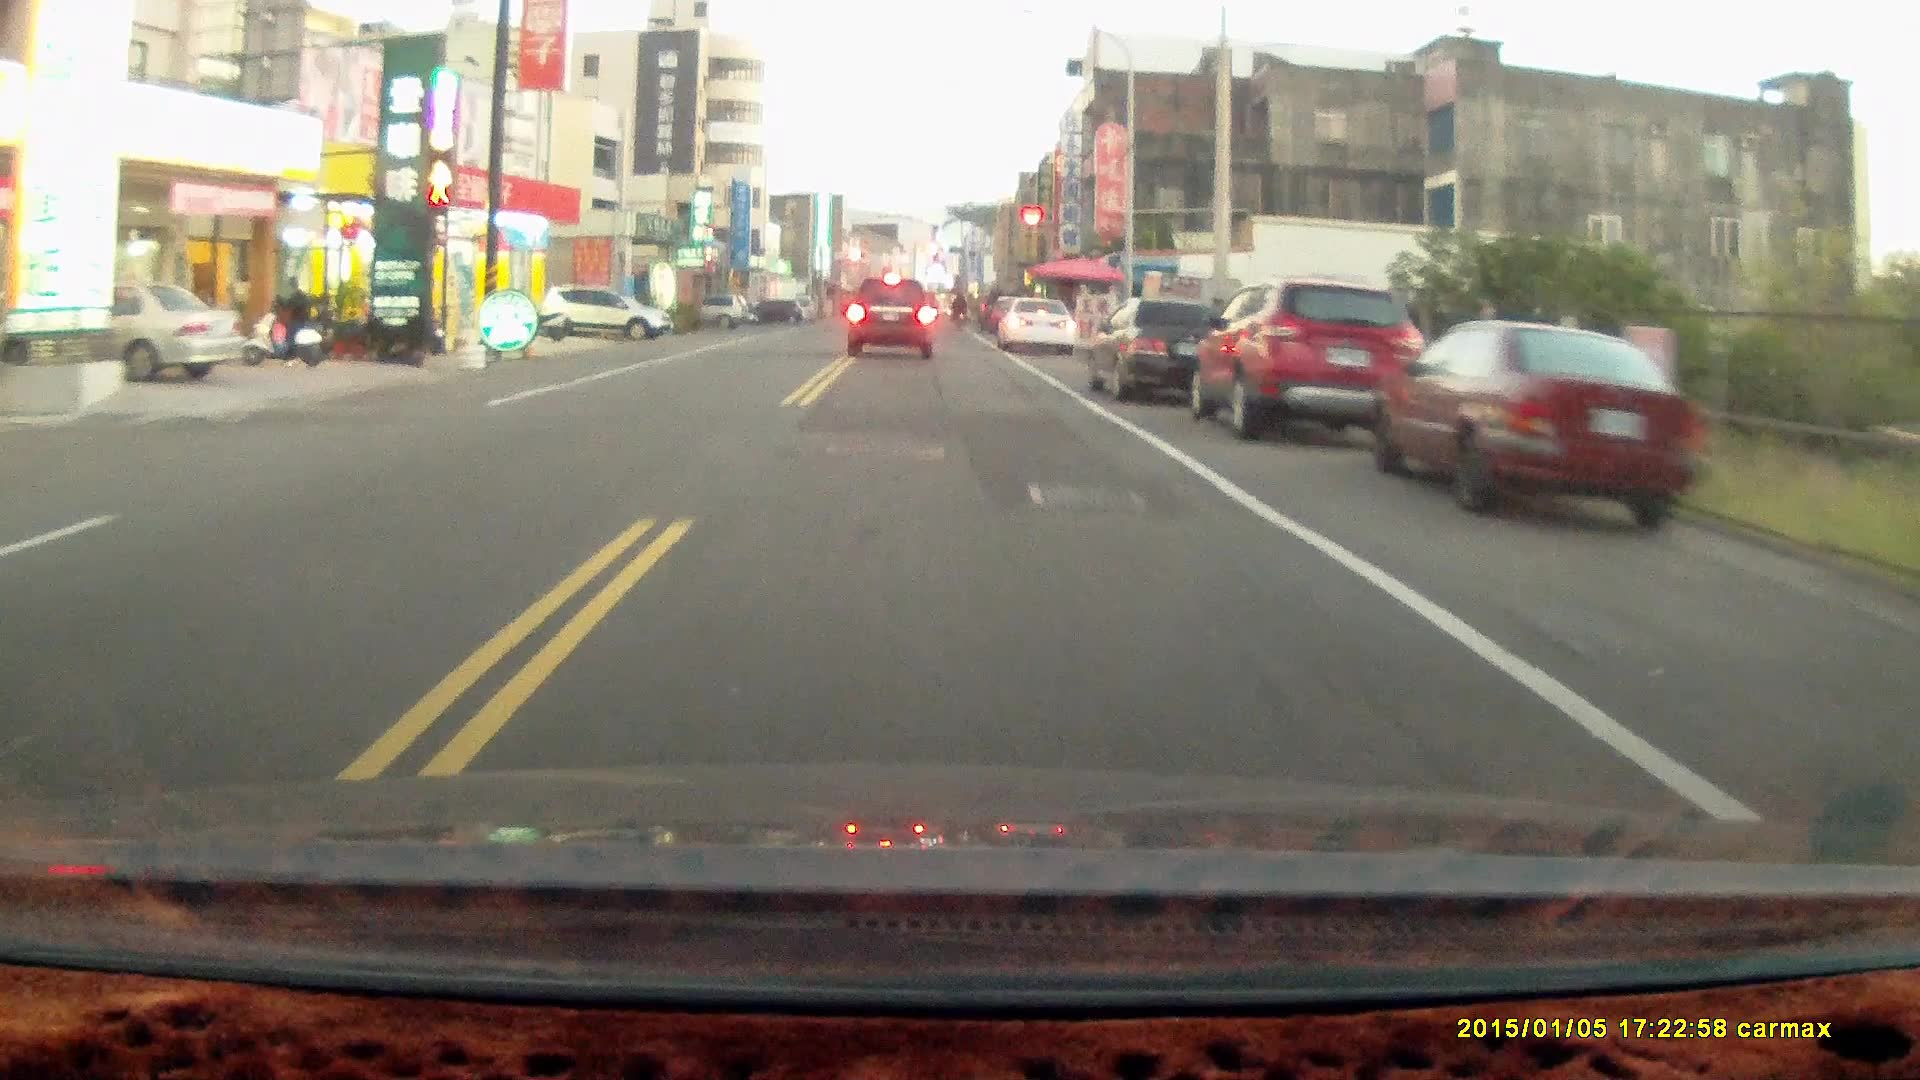vehicle: (1370, 319, 1712, 538), (1197, 276, 1440, 440), (26, 286, 247, 388), (1088, 297, 1240, 404), (542, 285, 676, 345), (847, 280, 938, 363), (1000, 295, 1077, 355)
